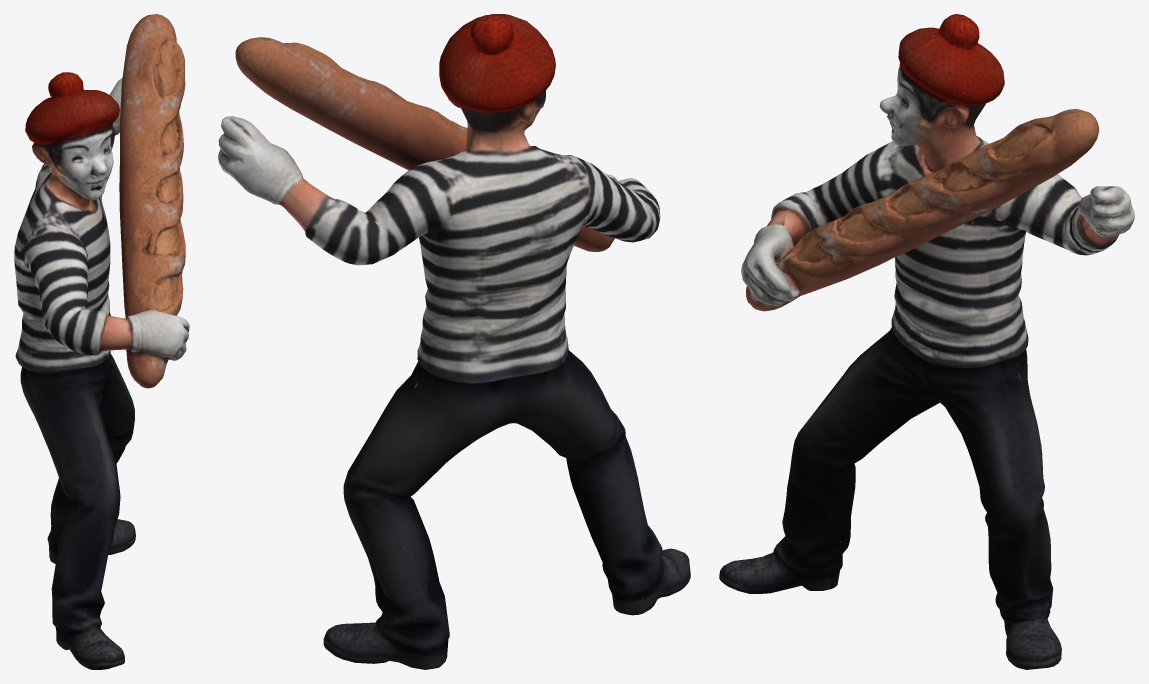
Rendered from paris_duelist.glb.
3 renders of one model, left to right at view 1: azimuth 30°, elevation 25°; view 2: azimuth 150°, elevation 25°; view 3: azimuth 270°, elevation 25°, orthographic. The views are drawn at different scales.
Parts seen in each view (by area): view 1: world; view 2: world; view 3: world.
Part boxes in pixels (<box>): world: <box>14,14,189,669</box>; world: <box>218,14,690,669</box>; world: <box>719,14,1134,669</box>.
Bounding box in the file's own units: 0.8338 × 1.75 × 1.1.
Materials: 1 (1 with a texture image).
